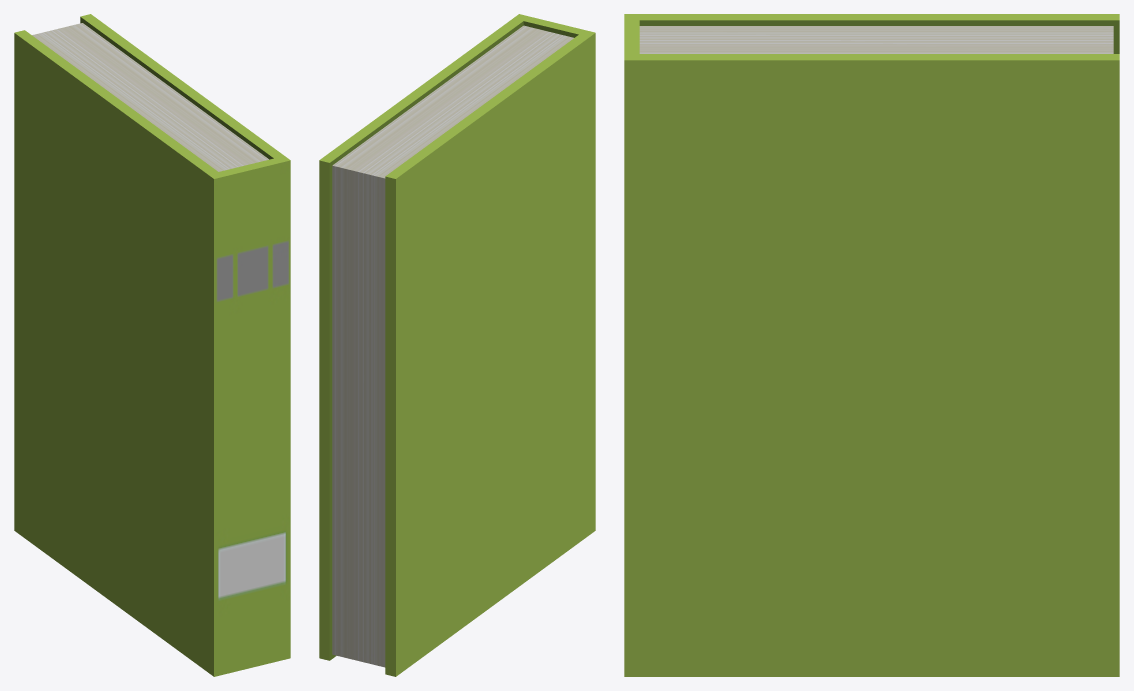
The model's file is BOOK003.fbx.
3 renders of one model, left to right at view 1: azimuth 30°, elevation 25°; view 2: azimuth 150°, elevation 25°; view 3: azimuth 270°, elevation 25°, orthographic. The views are drawn at different scales.
Parts seen in each view (by area): view 1: BOOK003; view 2: BOOK003; view 3: BOOK003.
Boxes of the visible parts, x1,y1,x2,y2 form: BOOK003: (14,14,290,676); BOOK003: (319,14,595,676); BOOK003: (624,14,1119,676).
Size of the model in its own units: 3.61 by 22.39 by 16.3.
